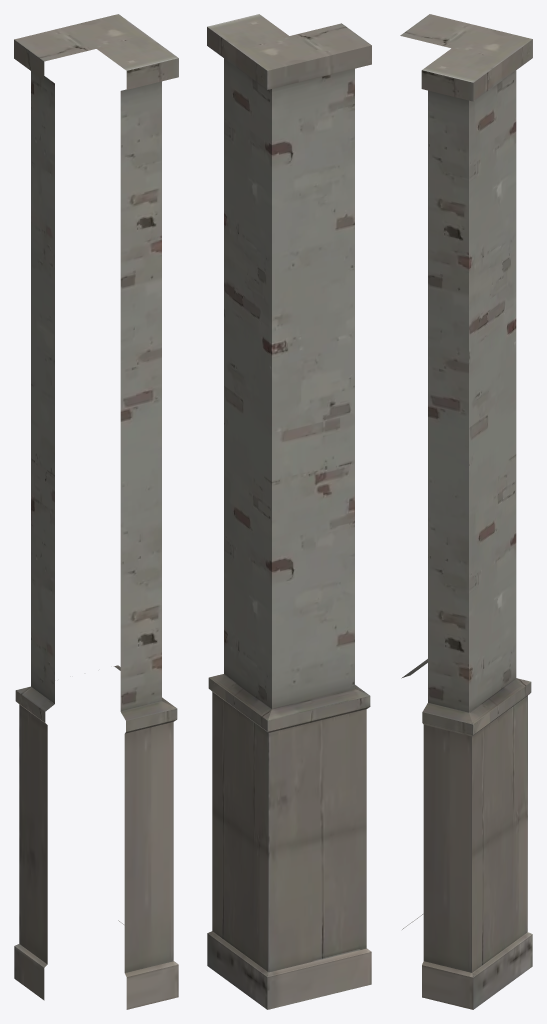
The picture shows the model from 3 angles, left to right: view 1: azimuth 30°, elevation 25°; view 2: azimuth 210°, elevation 25°; view 3: azimuth 330°, elevation 25°; orthographic projection.
Visible parts, largest first — view 1: body0_model0_lod0_mesh0; view 2: body0_model0_lod0_mesh0; view 3: body0_model0_lod0_mesh0.
Boxes of the visible parts, x1,y1,x2,y2 form: body0_model0_lod0_mesh0: (14,14,178,1009); body0_model0_lod0_mesh0: (207,14,371,1009); body0_model0_lod0_mesh0: (400,14,532,1009).
Size of the model in its own units: 40.12 by 345 by 40.12.
1 material, 1 textured.
